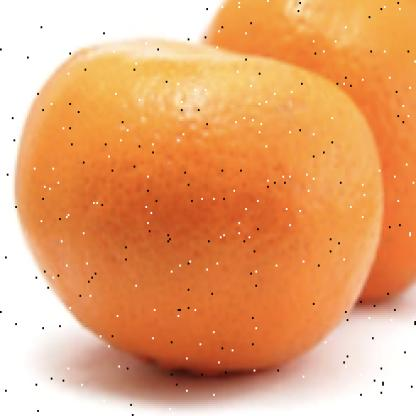fresh: (17, 40, 386, 377)
